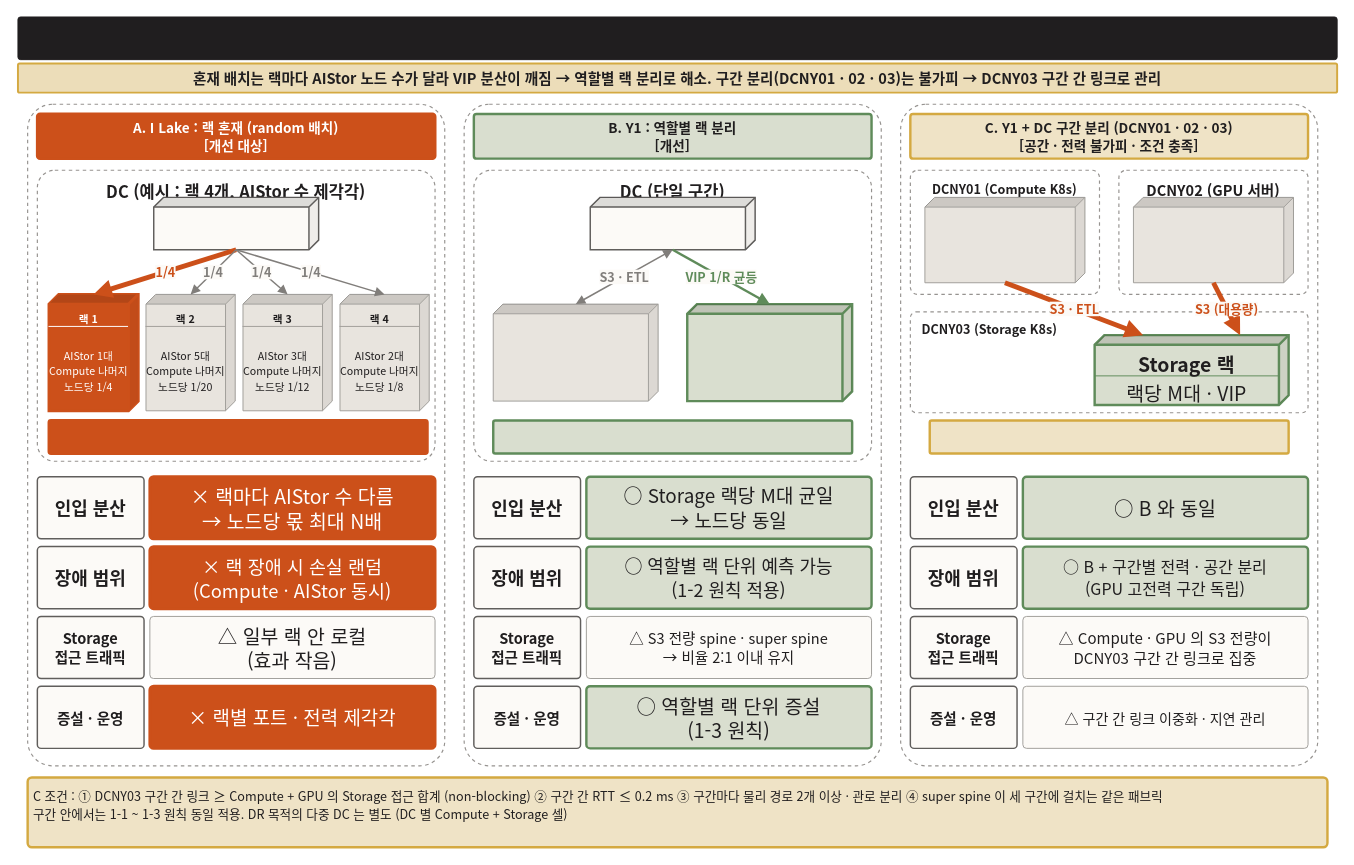
Image size: 1354x865. Some labels were removed from this diagram. The shapes that lost their labels are listed below. From the top down, each one's centre as x and y in pixels, then its label:
At (677,38): "그림 1-4. 랙 혼재(random) → 역할별 랙 분리 · DC 구간 분리 (공간 · 전력 제약)".
At (236,223): "Border AIStor VIP".
At (672,223): "Super Spine AIStor VIP".
At (1004,239): "Compute 랙 랙당 N대 Spark · Airflow · ETL".
At (1212,239): "GPU 서버 랙 AI 학습 · 추론".
At (575,352): "Compute 랙 랙당 N대 동일 Spark · Airflow · ETL".
At (769,352): "Storage 랙 랙당 M대 동일 AIStor (VIP 광고)".
At (237,436): "랙 1 AIStor 노드 = 랙 2 노드의 5배 인입".
At (672,436): "Storage 노드당 1/(R·M) 동일".
At (1108,436): "DCNY03 구간 간 링크 = Compute + GPU 합계".
